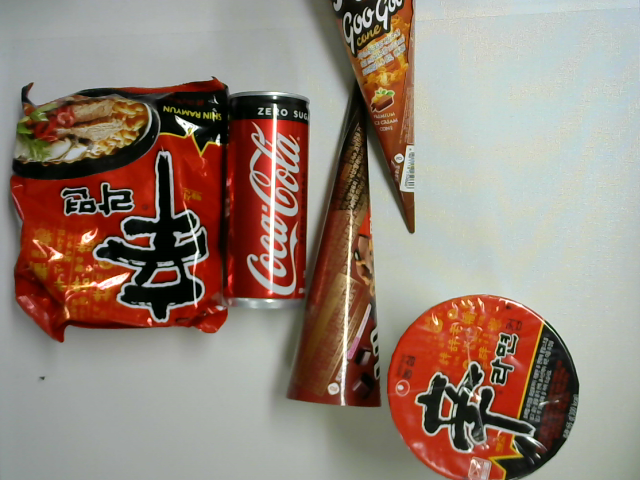Coca_Cola_Zero_Can_250ml: (221, 85, 317, 315)
GooGoo_Cone_CVS: (316, 1, 427, 235)
Sinramen: (6, 70, 238, 350)
Sinramen_small: (384, 291, 584, 480)
World_Cone_Choco: (283, 67, 393, 420)
